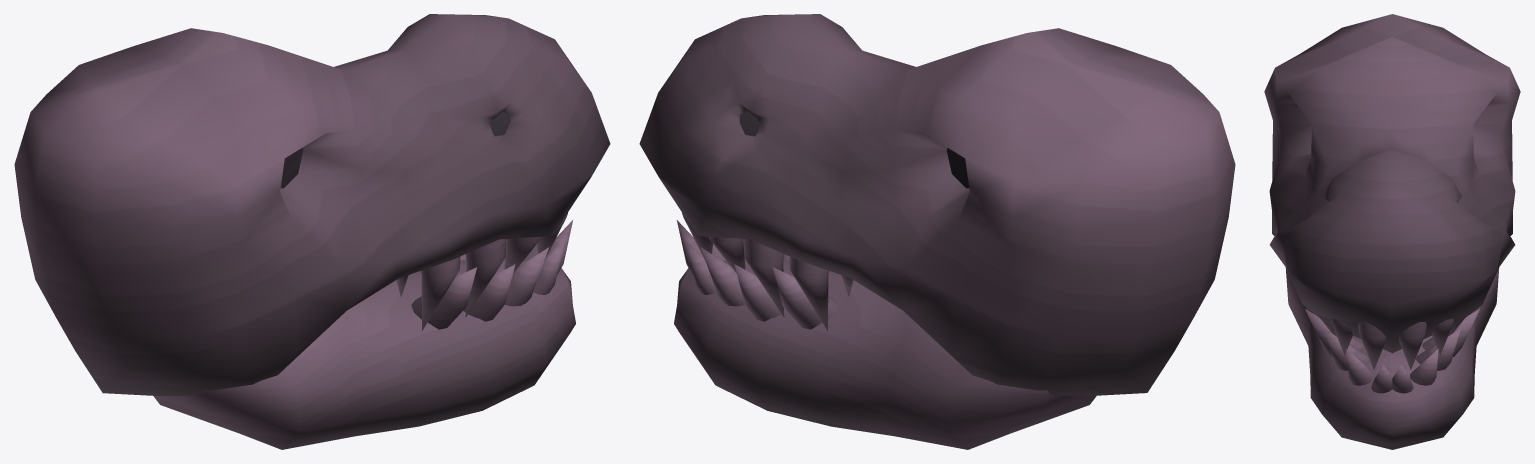
The model's file is SM_Dino_Skull.fbx.
3 renders of one model, left to right at view 1: azimuth 30°, elevation 25°; view 2: azimuth 150°, elevation 25°; view 3: azimuth 270°, elevation 25°, orthographic. The views are drawn at different scales.
Parts seen in each view (by area): view 1: Upper_Skull, Lower_Skull; view 2: Upper_Skull, Lower_Skull; view 3: Upper_Skull, Lower_Skull.
Part boxes in pixels (x1,y1,x2,y2): Upper_Skull: (14,14,610,395); Lower_Skull: (153,220,575,449); Upper_Skull: (639,14,1235,395); Lower_Skull: (674,220,1096,449); Upper_Skull: (1264,14,1520,369); Lower_Skull: (1285,268,1499,449).
Bounding box in the file's own units: 56.86 × 40.81 × 30.07.
Materials: 1 (1 with a texture image).
